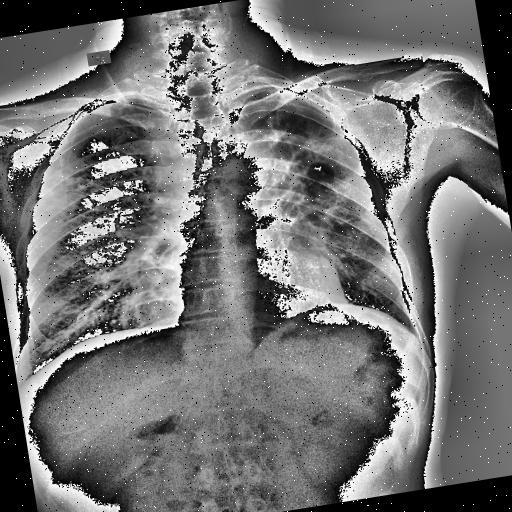13- Pulmonary fibrosis: (231, 100, 374, 275), (258, 92, 391, 256), (253, 96, 367, 252), (30, 148, 126, 224), (36, 162, 110, 224), (30, 152, 92, 208)
4- Consolidation: (258, 92, 391, 256)
